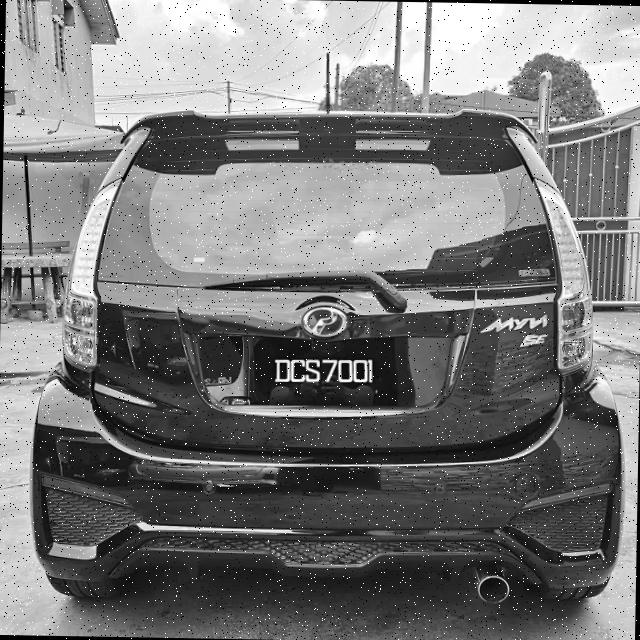License_Plate: (253, 344, 399, 397)
car: (24, 96, 640, 608)
